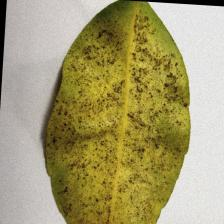canker: (73, 43, 173, 205)
